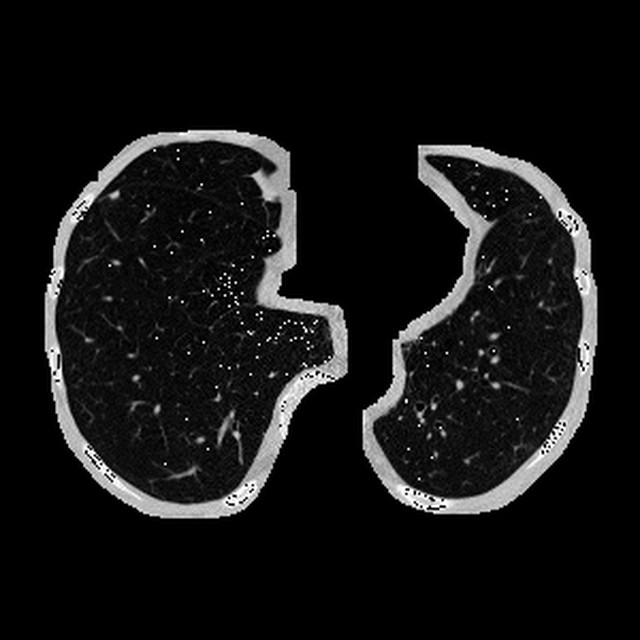PN: (109, 190, 117, 198)
